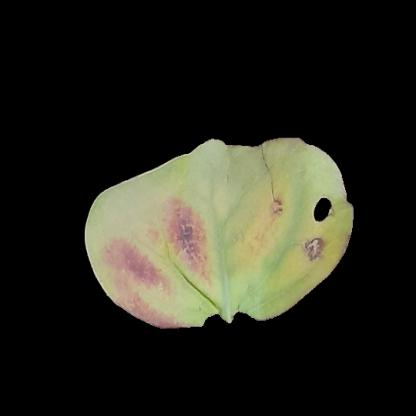curl_stage1: (129, 218, 209, 310), (231, 187, 299, 278)
